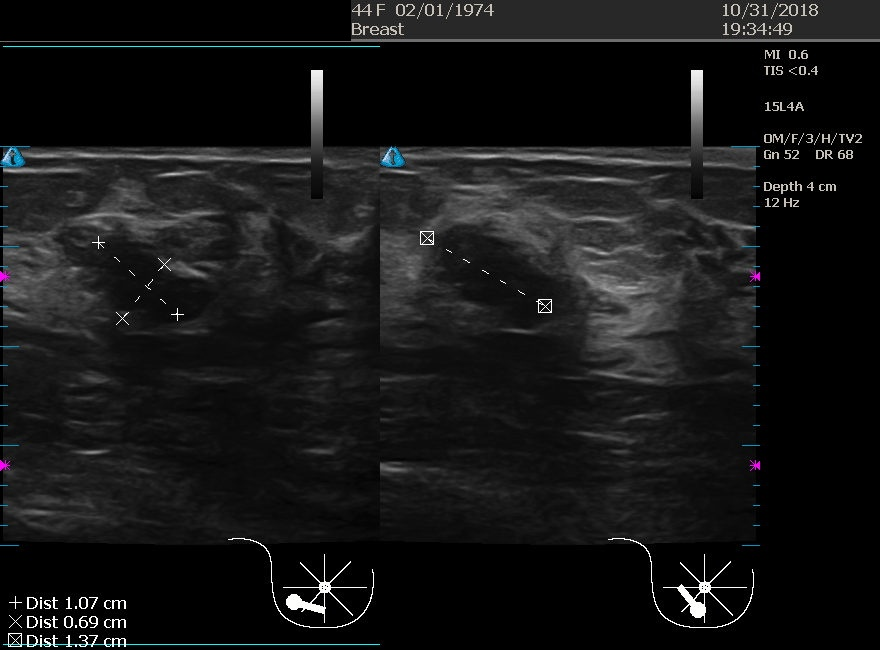BIRADS_4: (51, 190, 243, 382)
